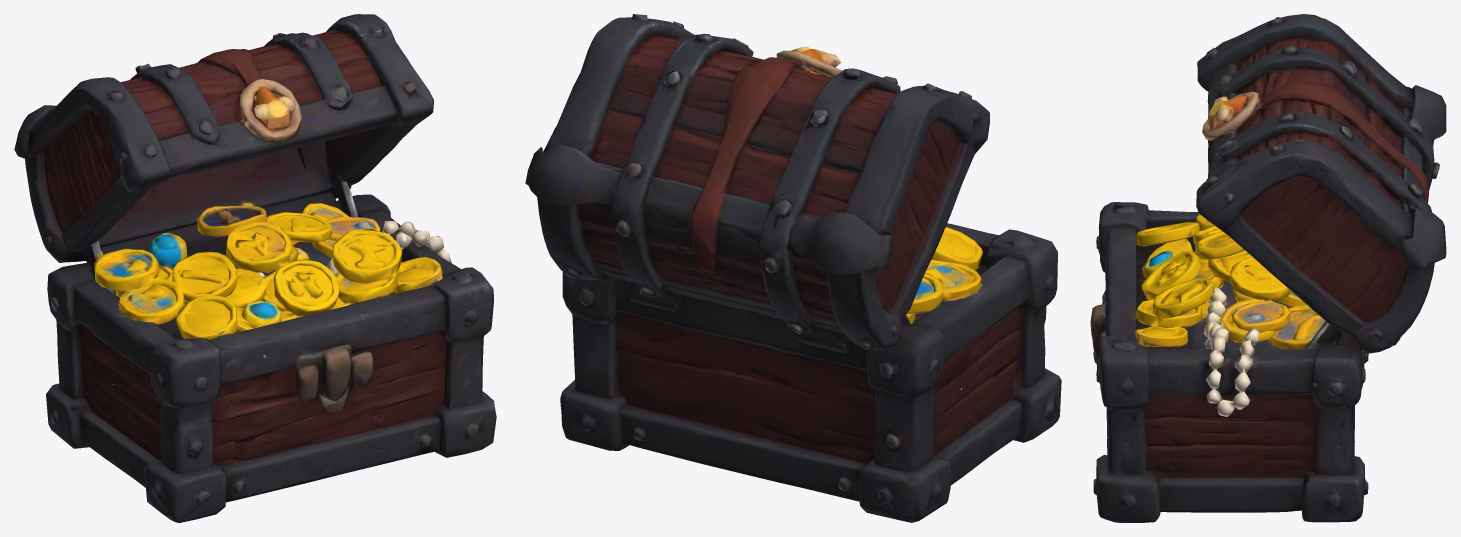
The model's file is cofre-tesoro.glb.
3 views of the same model, side by side, from view 1: azimuth 30°, elevation 25°; view 2: azimuth 150°, elevation 25°; view 3: azimuth 270°, elevation 25° (orthographic). The views are drawn at different scales.
Size of the model in its own units: 0.9522 by 0.9793 by 0.8544.
Materials: 1 (1 with a texture image).
